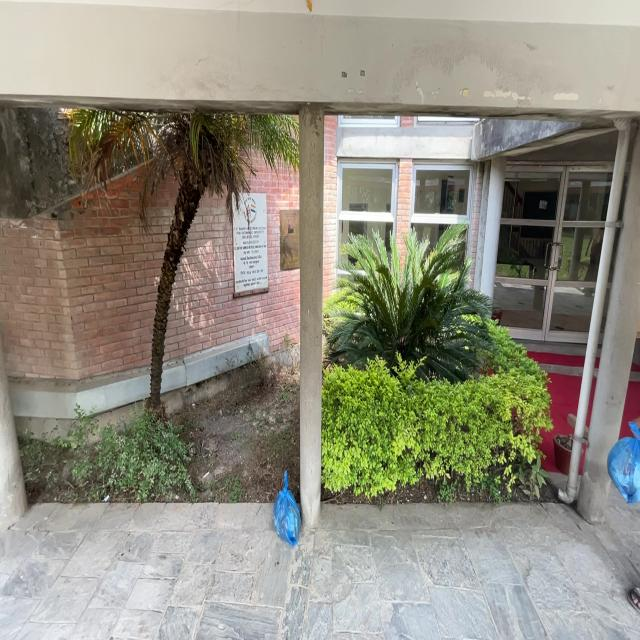carryload: (595, 404, 640, 533)
garbage: (262, 460, 308, 561)
